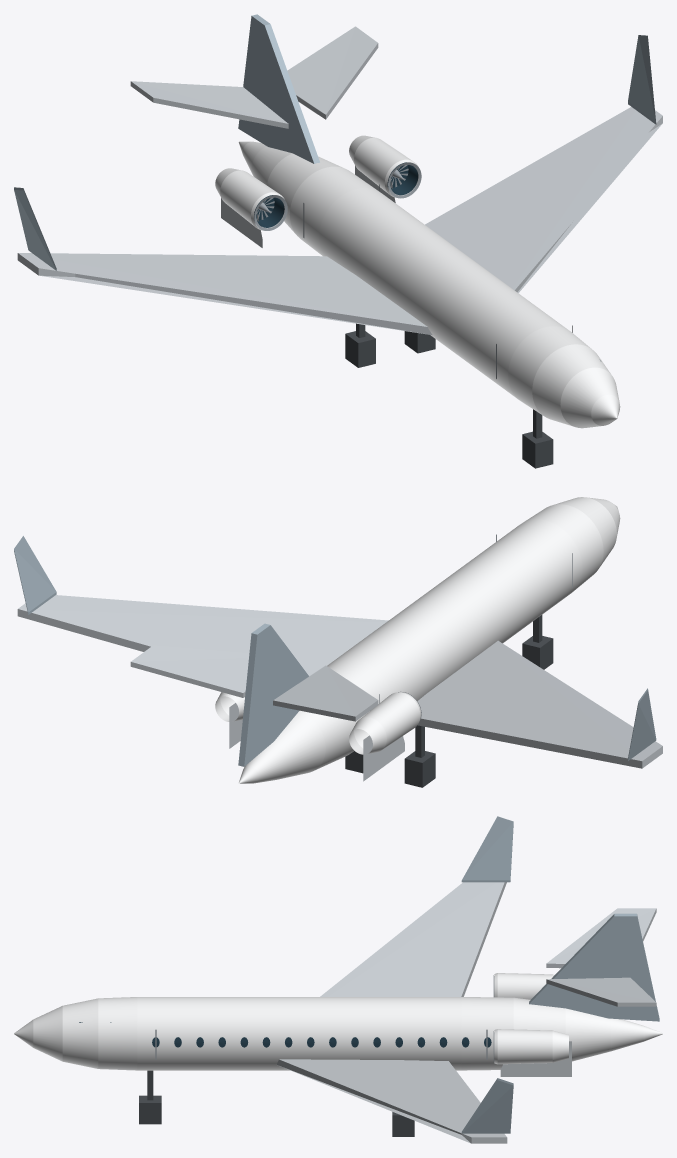
The model's file is bizjet-neutral-v2.gltf.
The picture shows the model from 3 angles, top to bottom: view 1: azimuth 30°, elevation 25°; view 2: azimuth 150°, elevation 25°; view 3: azimuth 270°, elevation 25°; orthographic projection. The views are drawn at different scales.
Visible parts, largest first — view 1: object 1, Gear; view 2: object 1, Gear; view 3: object 1, Gear.
Part boxes in pixels (x1,y1,x2,y2): object 1: [14, 14, 662, 428]; Gear: [345, 323, 553, 468]; object 1: [14, 497, 662, 783]; Gear: [345, 615, 553, 787]; object 1: [14, 816, 662, 1143]; Gear: [139, 1070, 414, 1136].
Size of the model in its own units: 21 by 7.69 by 22.
